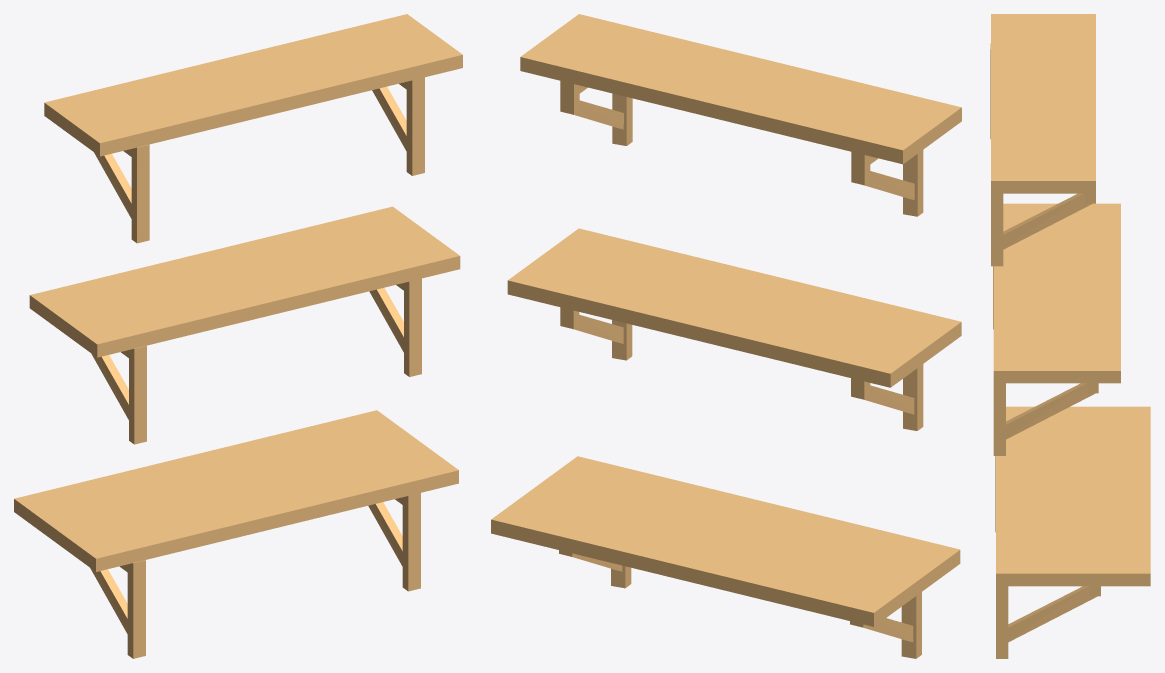
The model's file is wallshelf.glb.
3 views of the same model, side by side, from view 1: azimuth 30°, elevation 25°; view 2: azimuth 150°, elevation 25°; view 3: azimuth 270°, elevation 25° (orthographic). The views are drawn at different scales.
Size of the model in its own units: 1.43 by 1.98 by 0.58.
